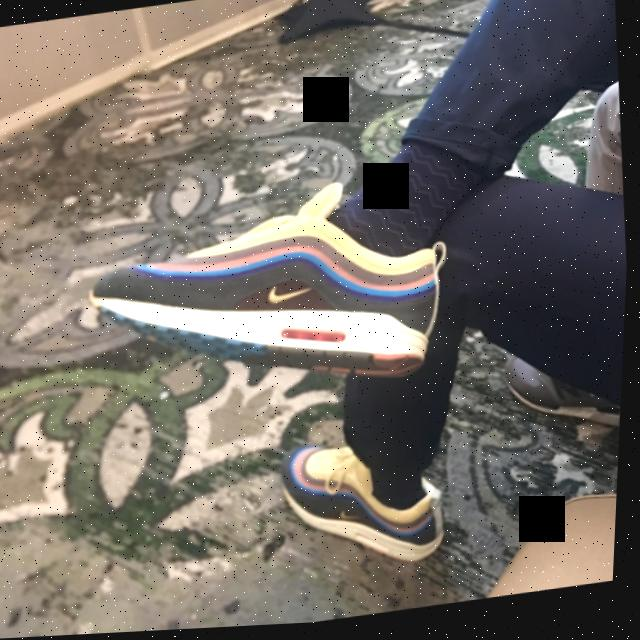shoes: (79, 174, 458, 416), (278, 429, 457, 582)
